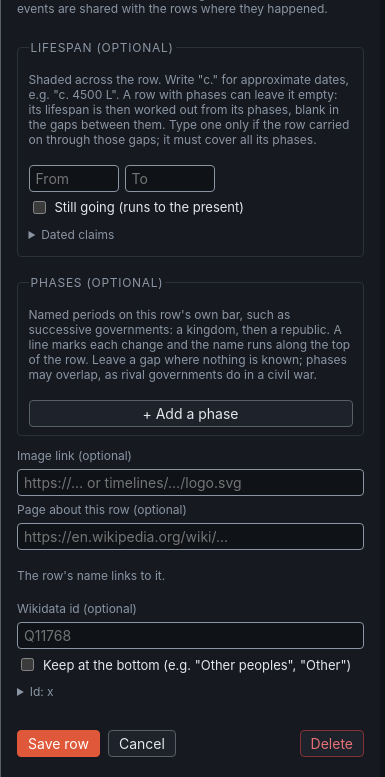
Test: TrackForm page link and Wikidata id › refuses an unsafe link and a malformed id, with the error tied to the field
The image size is (385, 777).
(page scrolled)
In the field labelled "Page about this row (optional)": (190,537) 17,523 -> 364,550, type "javascript:alert(1)"
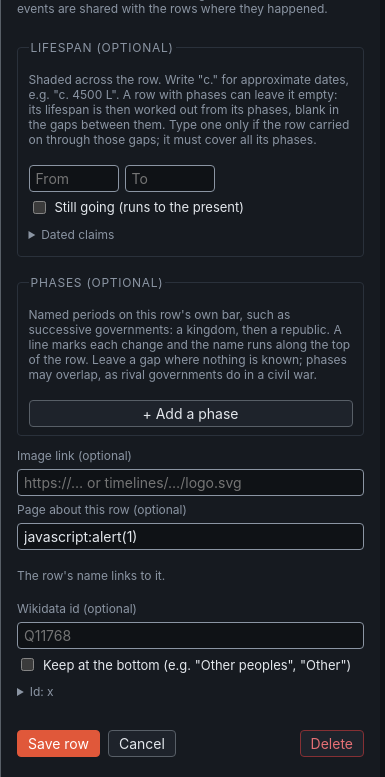
Click the button "Save row": (58,744) 17,730 -> 100,757
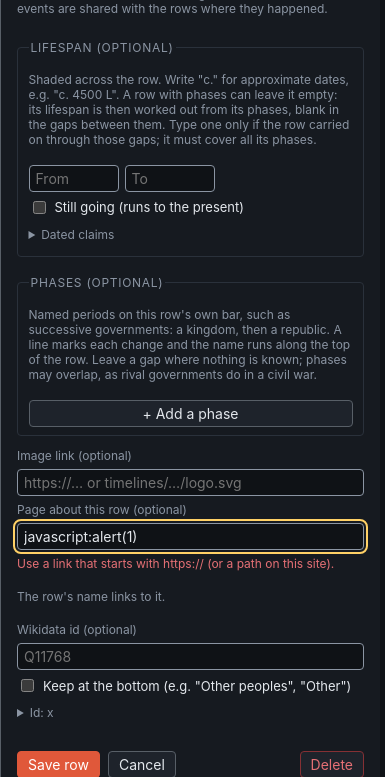
Check: the message shows "https://", box 17,556 -> 334,571
Clear the field labelled "Page about this row (optional)": (190,537) 17,523 -> 364,550
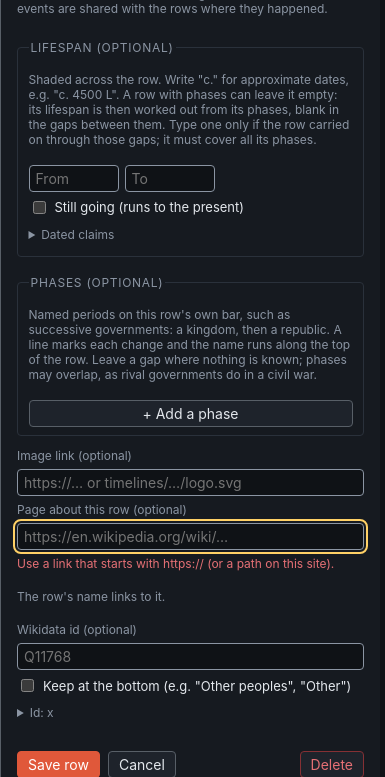
In the field labelled "Wikidata id (optional)": (190,657) 17,643 -> 364,670, type "egypt"
(page scrolled)
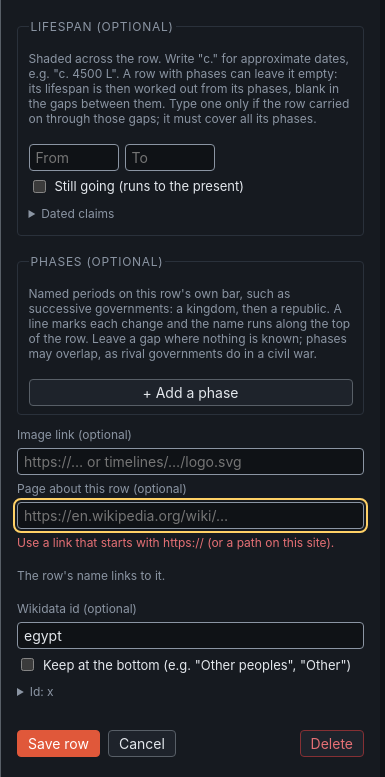
Click the button "Save row": (58,744) 17,730 -> 100,757
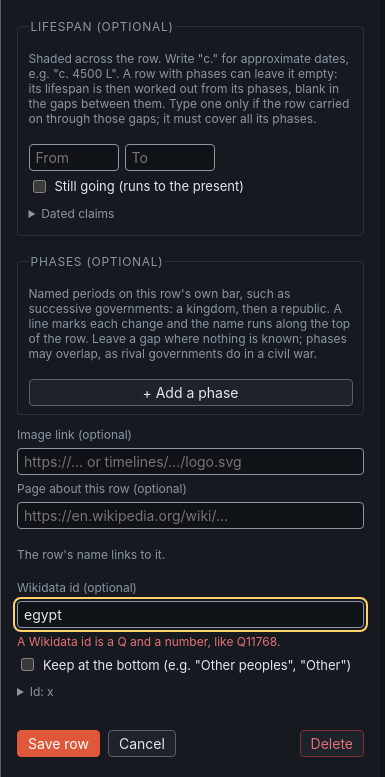
Check: the text "A Wikidata id is a Q and a number, like Q11768." is shown, box 17,634 -> 280,649
Check: the text "starts with https" is gone
